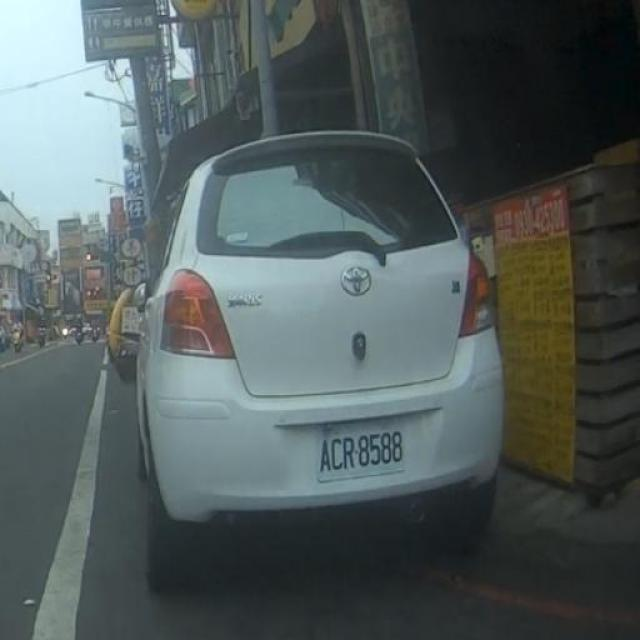Legalparking: (100, 103, 538, 590)
